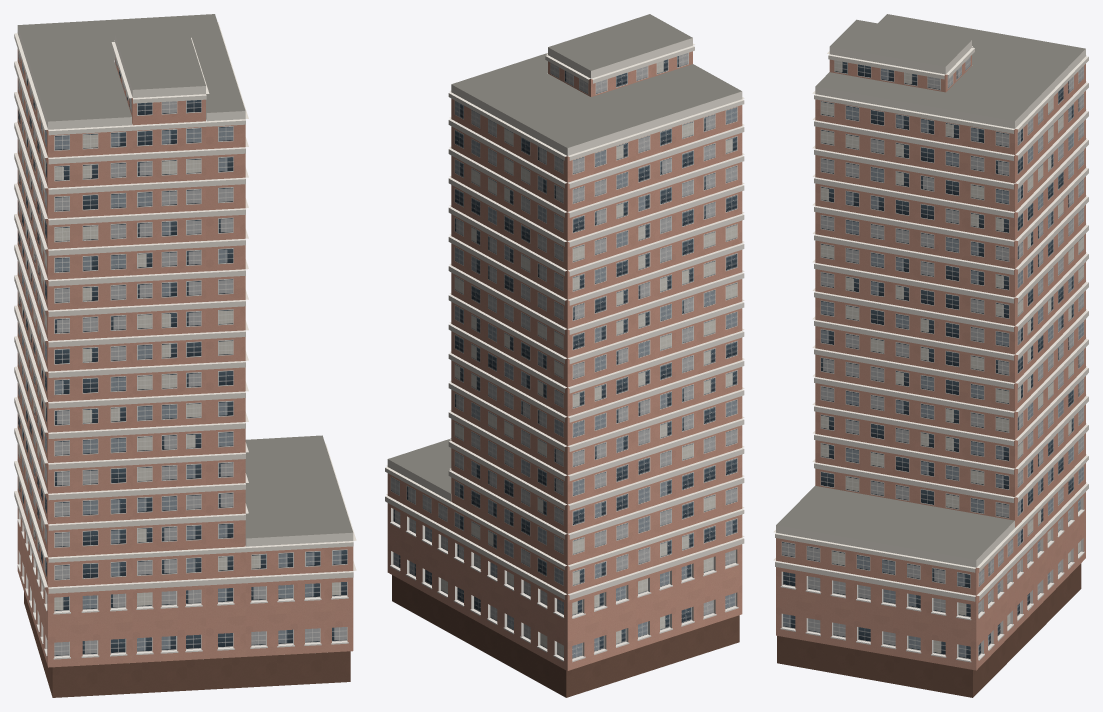
The model's file is z5R2_tower_red_b.glb.
3 renders of one model, left to right at view 1: azimuth 30°, elevation 25°; view 2: azimuth 150°, elevation 25°; view 3: azimuth 270°, elevation 25°, orthographic. The views are drawn at different scales.
Parts seen in each view (by area): view 1: z5R2_tower_red_b; view 2: z5R2_tower_red_b; view 3: z5R2_tower_red_b.
Boxes of the visible parts, x1=… form: z5R2_tower_red_b: x1=14, y1=14, x2=356, y2=697; z5R2_tower_red_b: x1=385, y1=14, x2=744, y2=697; z5R2_tower_red_b: x1=773, y1=14, x2=1088, y2=697.
Bounding box in the file's own units: 33.5 × 58.97 × 29.93.
Materials: 3 (3 with a texture image).
